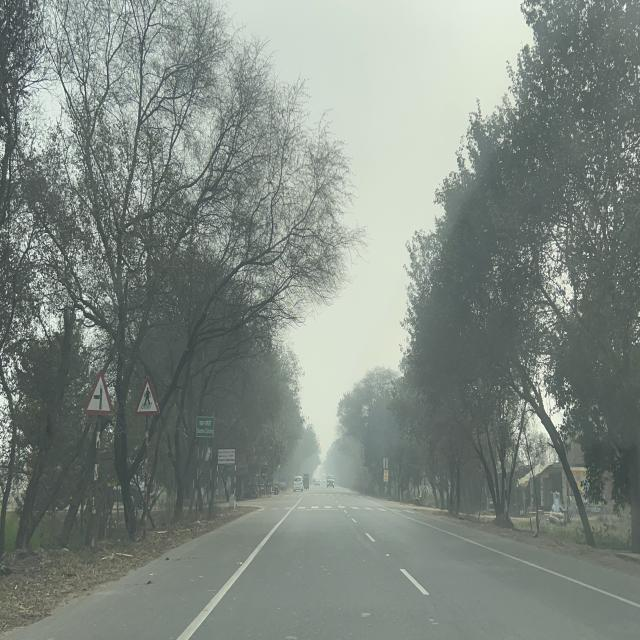GENERAL: (196, 415, 215, 437)
PEDESTRIAN_CROSSING: (134, 376, 162, 416)
SIDE_ROAD_LEFT: (83, 368, 114, 417)
